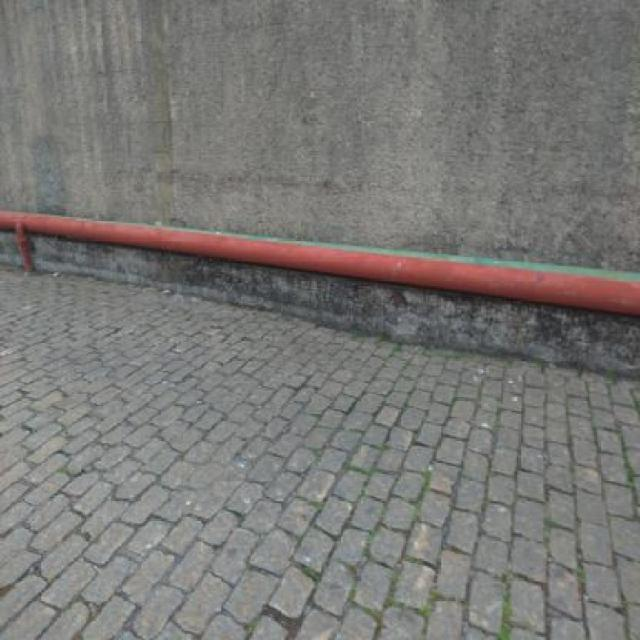gas: (4, 212, 637, 313)
